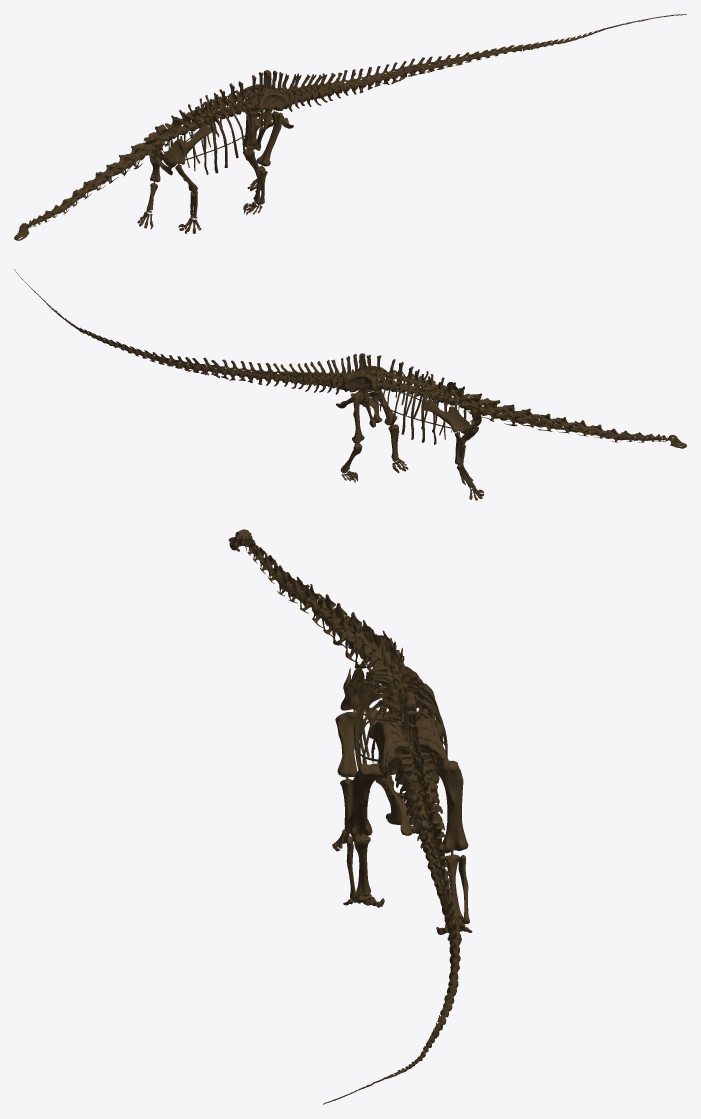
Rendered from diplodocus-optimized.glb.
The picture shows the model from 3 angles, top to bottom: view 1: azimuth 30°, elevation 25°; view 2: azimuth 150°, elevation 25°; view 3: azimuth 270°, elevation 25°; orthographic projection. The views are drawn at different scales.
Parts seen in each view (by area): view 1: Object_3; view 2: Object_3; view 3: Object_3.
Boxes of the visible parts, x1=… form: Object_3: x1=14, y1=14, x2=686, y2=240; Object_3: x1=14, y1=269, x2=686, y2=500; Object_3: x1=228, y1=529, x2=472, y2=1104.
Bounding box in the file's own units: 22713 × 3982 × 3683.
